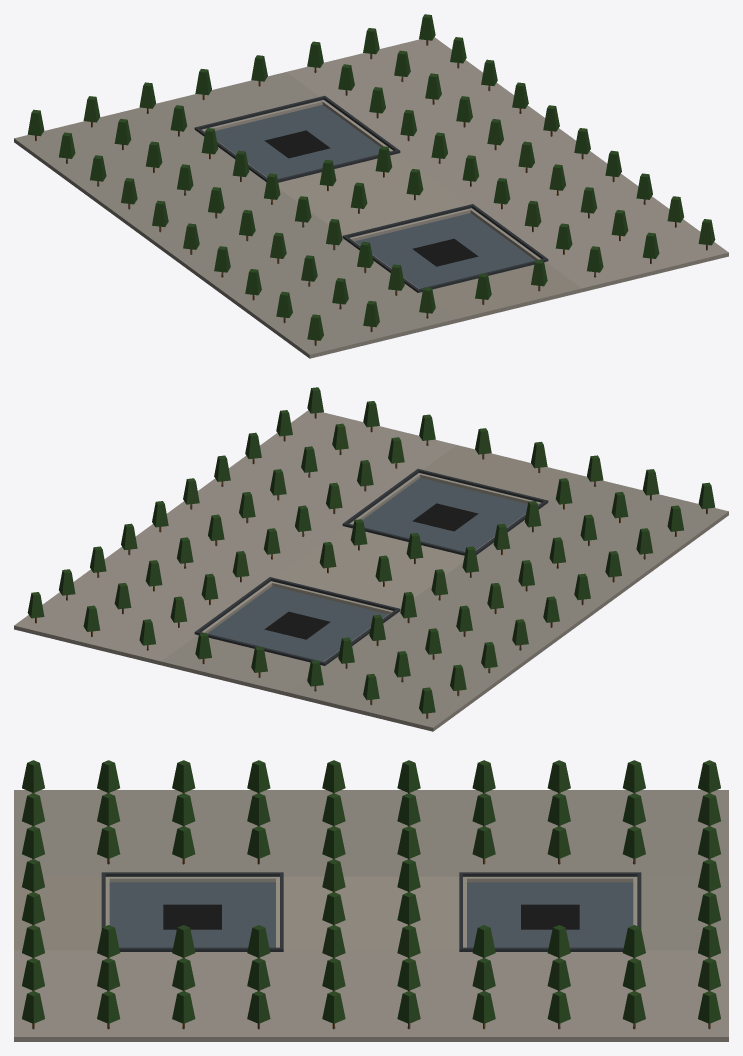
3 renders of one model, top to bottom at view 1: azimuth 30°, elevation 25°; view 2: azimuth 150°, elevation 25°; view 3: azimuth 270°, elevation 25°, orthographic. The views are drawn at different scales.
Visible parts, largest first — view 1: september-11-memorial-lod1; view 2: september-11-memorial-lod1; view 3: september-11-memorial-lod1.
Part boxes in pixels (x1,y1,x2,y2): september-11-memorial-lod1: [14, 14, 728, 358]; september-11-memorial-lod1: [14, 387, 728, 731]; september-11-memorial-lod1: [14, 760, 728, 1041].
Size of the model in its own units: 180 by 13.59 by 220.
